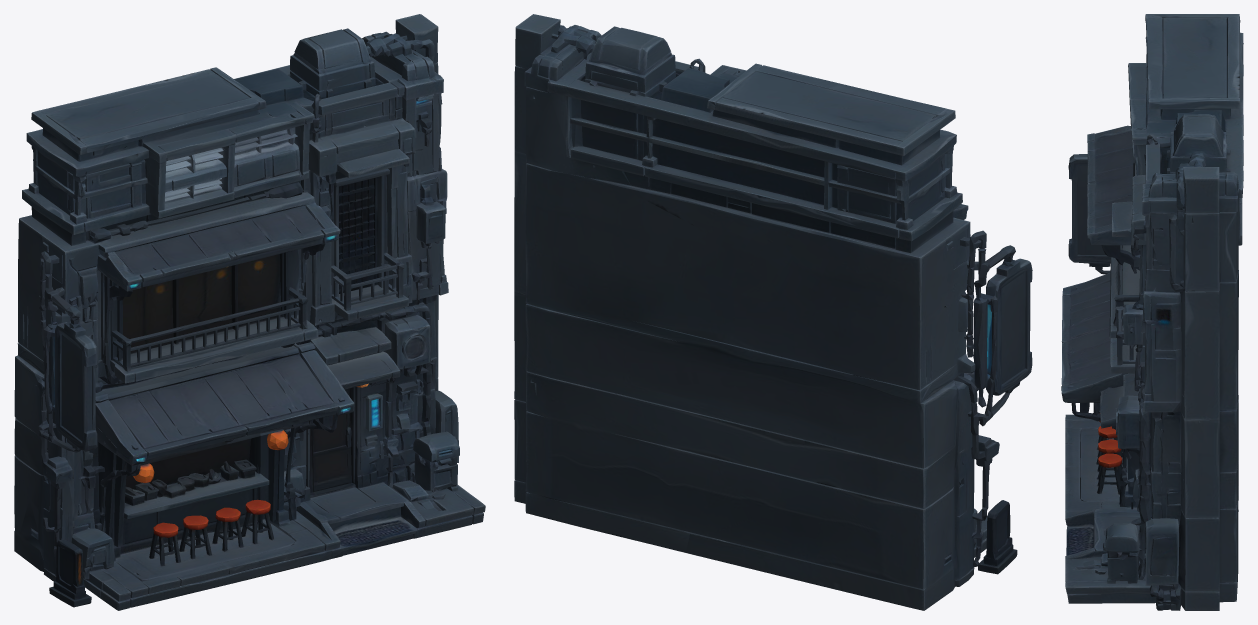
3 views of the same model, side by side, from view 1: azimuth 30°, elevation 25°; view 2: azimuth 150°, elevation 25°; view 3: azimuth 270°, elevation 25° (orthographic). The views are drawn at different scales.
Visible parts, largest first — view 1: model; view 2: model; view 3: model.
Boxes of the visible parts, <box> form: model: <box>14,14,485,610</box>; model: <box>514,14,1032,610</box>; model: <box>1061,14,1243,610</box>.
Size of the model in its own units: 1.82 by 1.9 by 0.7116.
1 material, 1 textured.
